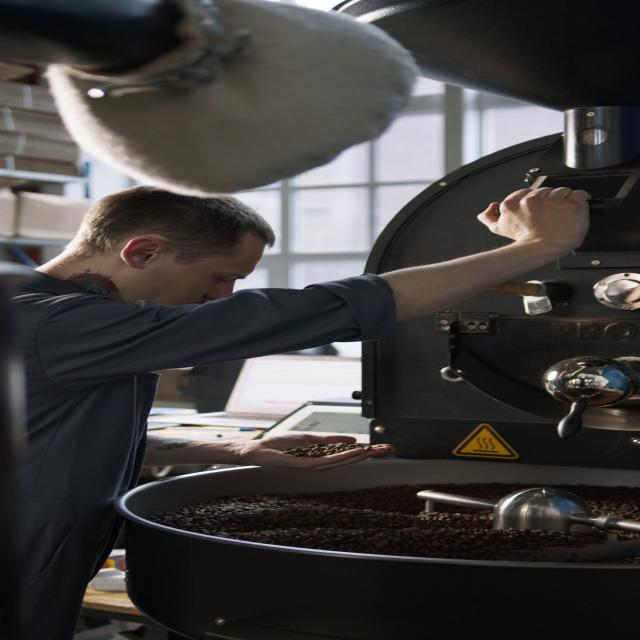not-gloved: (478, 187, 592, 244), (237, 432, 396, 472)
